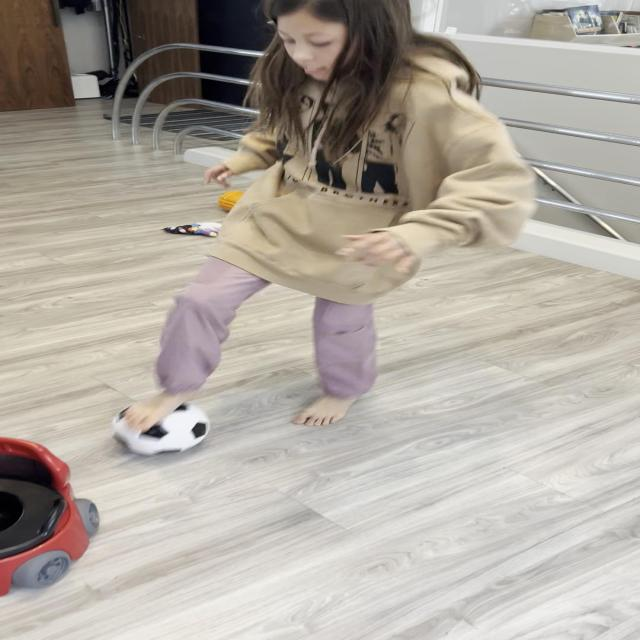Soccer Ball: (114, 400, 211, 457)
